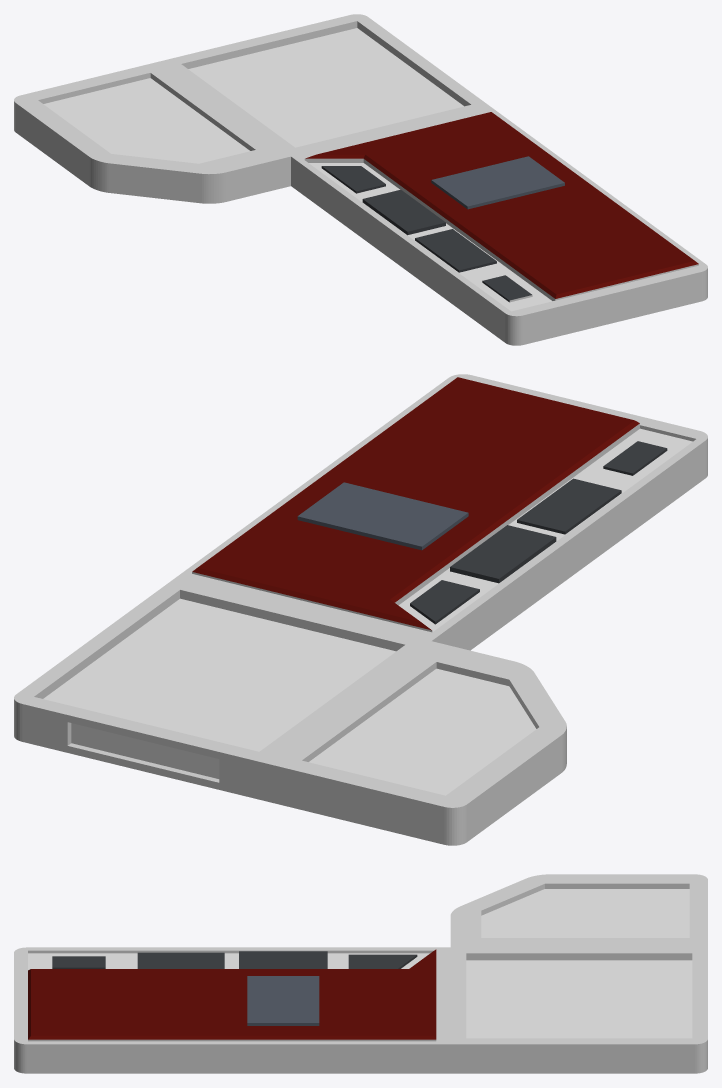
The model's file is Scanner 1.fbx.
3 views of the same model, one above another, from view 1: azimuth 30°, elevation 25°; view 2: azimuth 150°, elevation 25°; view 3: azimuth 270°, elevation 25° (orthographic). The views are drawn at different scales.
Parts seen in each view (by area): view 1: Cube.002, Cube.001, Cube.003, Cube.004; view 2: Cube.002, Cube.001, Cube.003, Cube.004; view 3: Cube.002, Cube.001, Cube.003, Cube.004.
Part boxes in pixels (x1,y1,x2,y2): Cube.002: [14, 14, 707, 345]; Cube.001: [321, 166, 532, 302]; Cube.003: [431, 156, 564, 209]; Cube.004: [309, 163, 552, 311]; Cube.002: [14, 374, 707, 845]; Cube.001: [410, 441, 667, 624]; Cube.003: [297, 482, 468, 550]; Cube.004: [398, 428, 692, 631]; Cube.002: [14, 874, 707, 1073]; Cube.001: [52, 951, 417, 968]; Cube.003: [247, 976, 319, 1025]; Cube.004: [28, 953, 429, 970].
Bounding box in the file's own units: 313 × 31.24 × 540.
